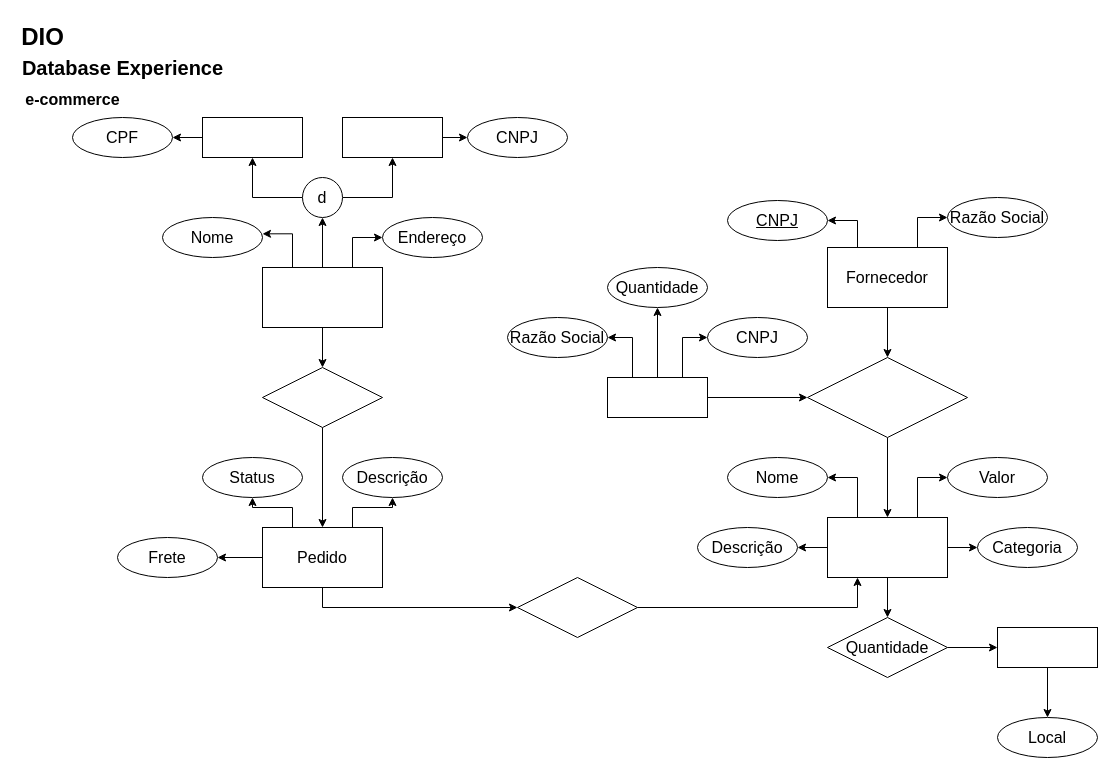
The diagram is 1115 pixels wide and 775 high, and some of its shapes have lost their labels. The shapes that lost their labels are listed below. From the top down, each one's centre as x and y in pixels, then its label:
At point 252,137: "PF".
At point 392,137: "PJ".
At point 322,297: "Cliente".
At point 322,397: "Faz pedido".
At point 657,397: "MarketPlace".
At point 887,397: "Disponibiliza Produto".
At point 887,547: "Produto".
At point 577,607: "Produto por pedido".
At point 1047,647: "Estoque".
